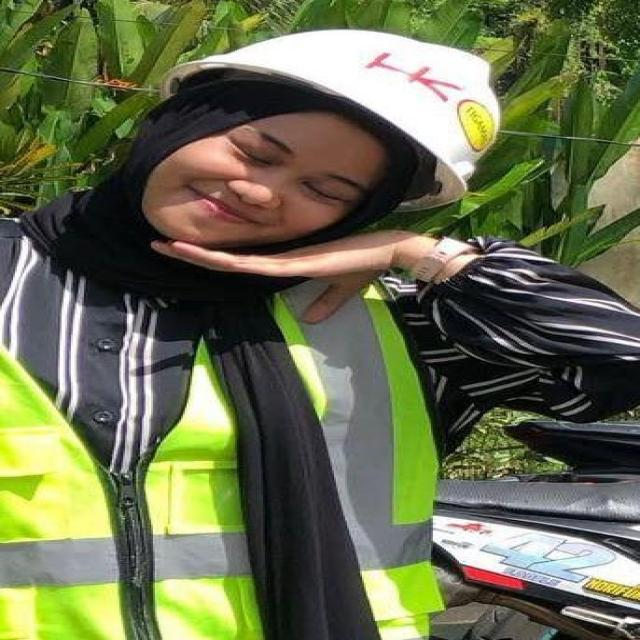safetyhelmet: (162, 31, 493, 218)
